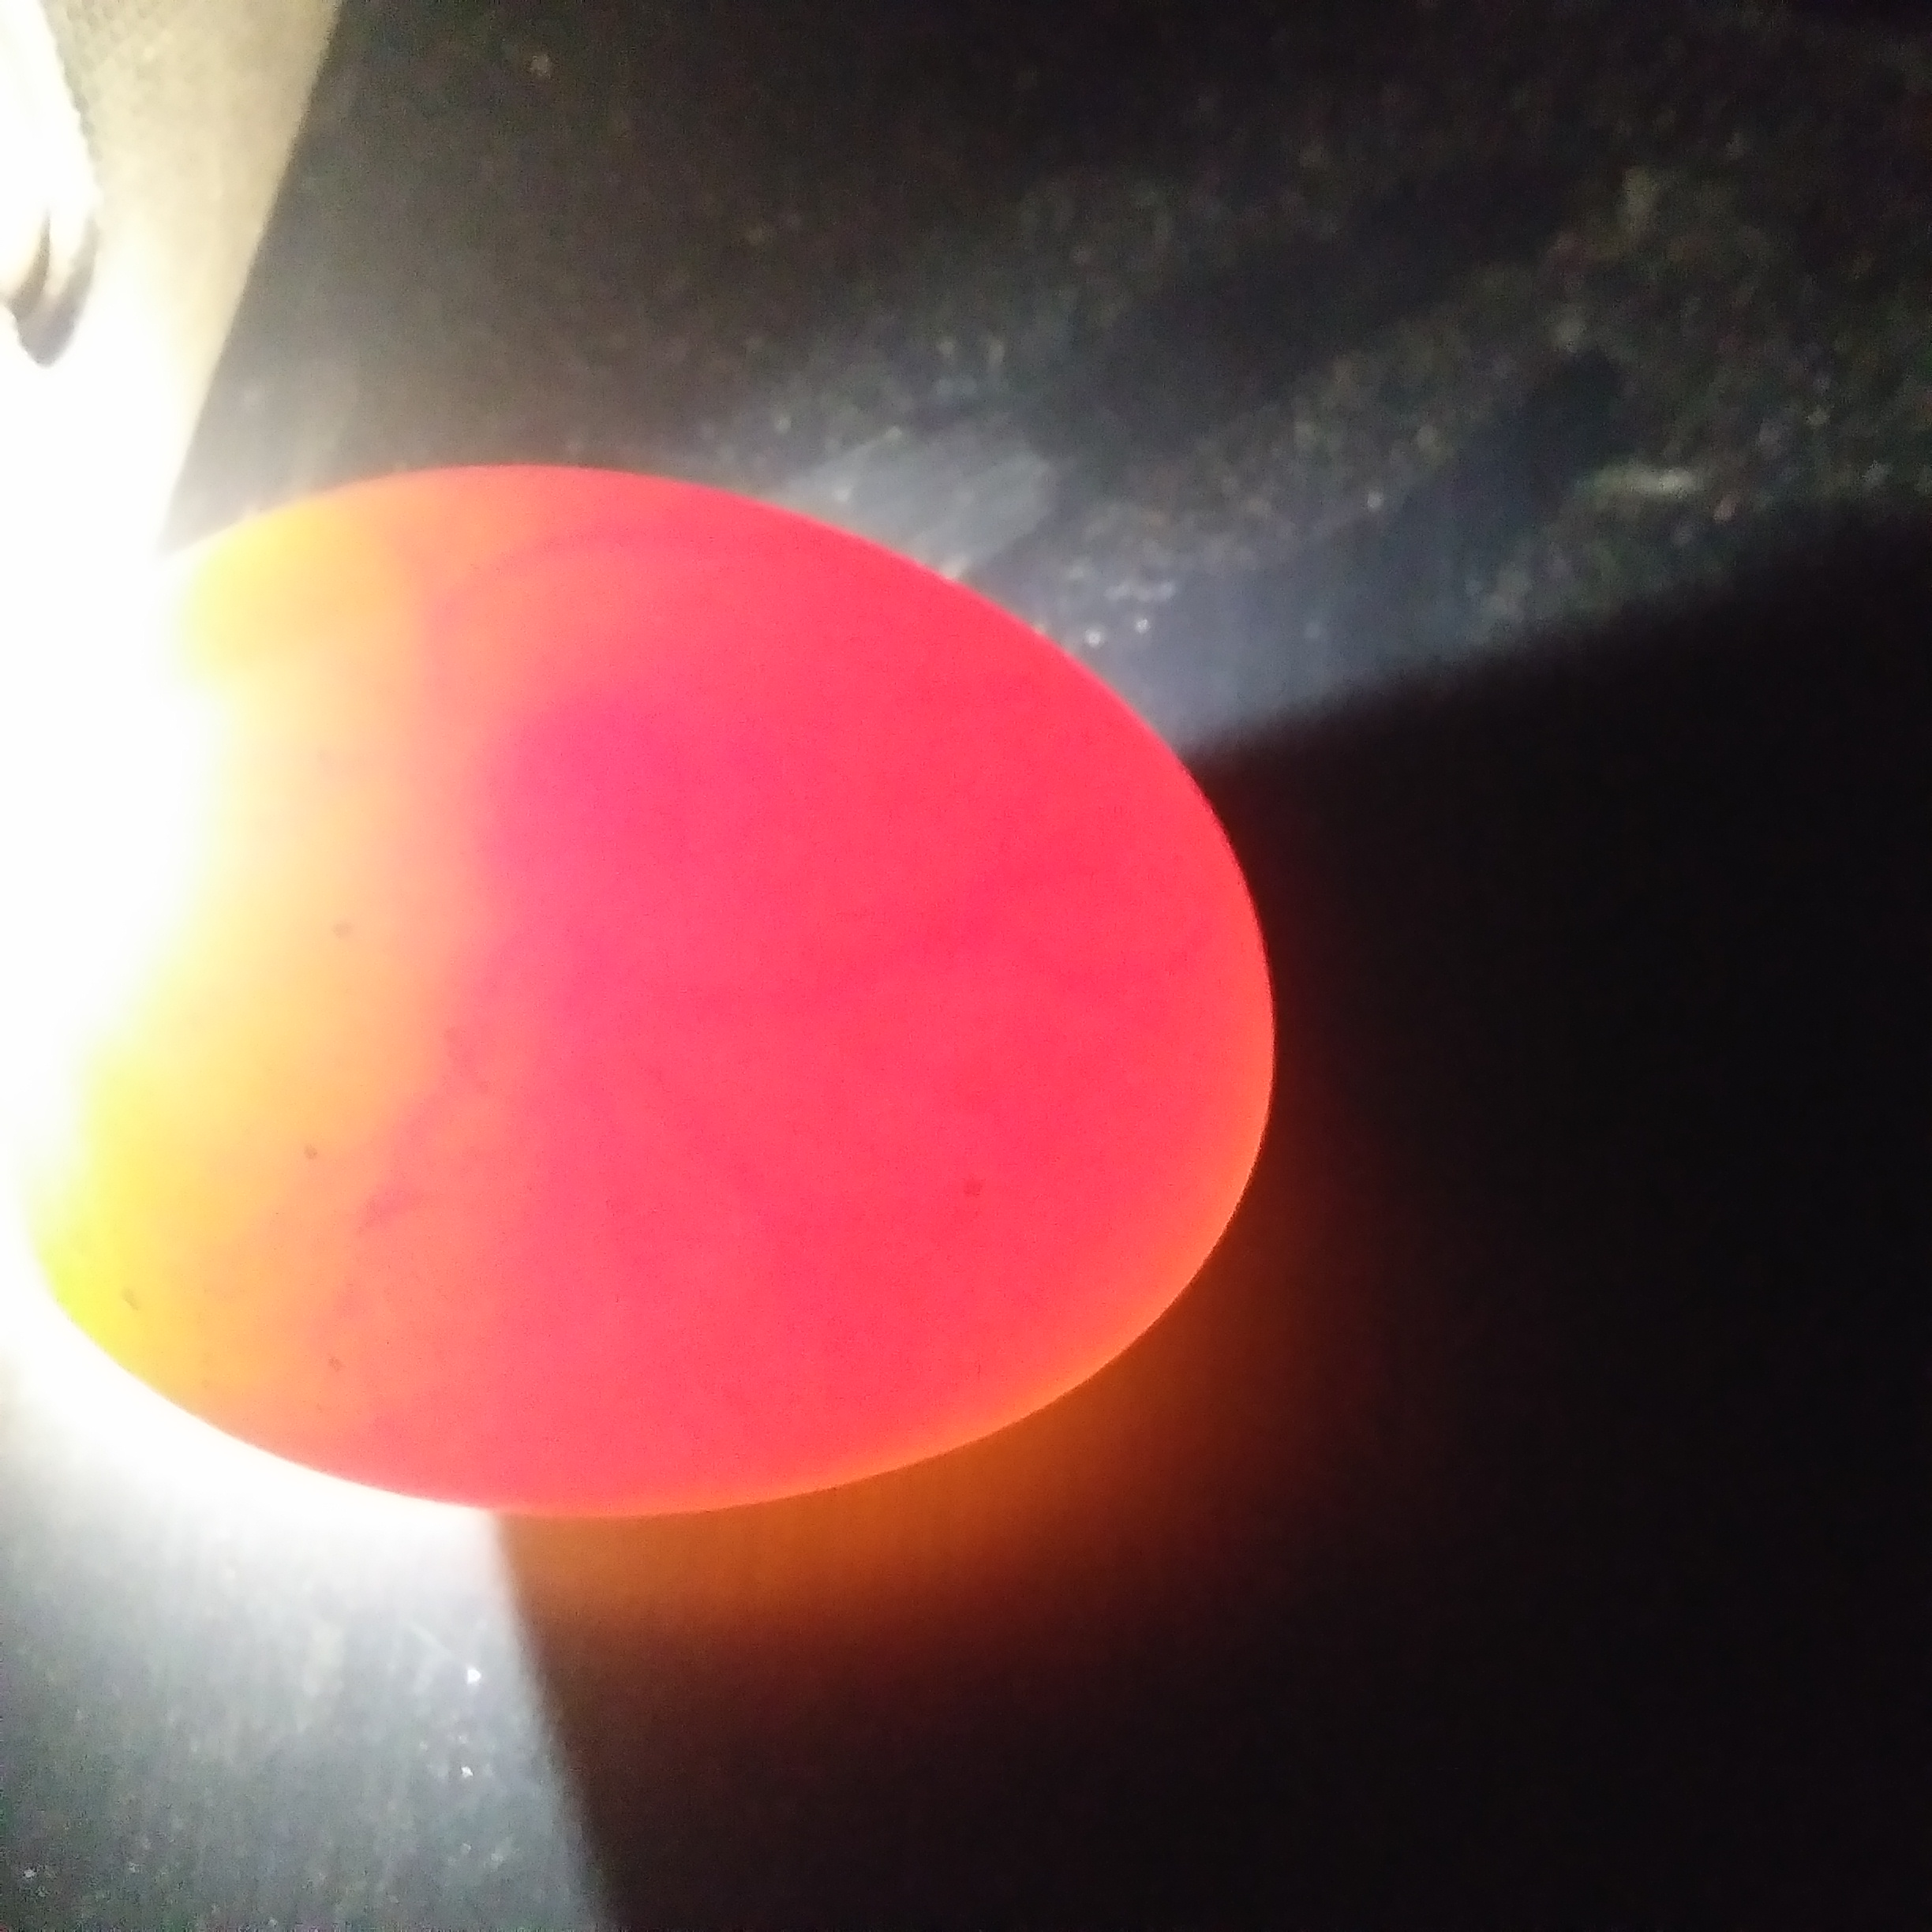bloodcell: (403, 932, 1016, 1371)
embryo: (481, 694, 665, 888)
